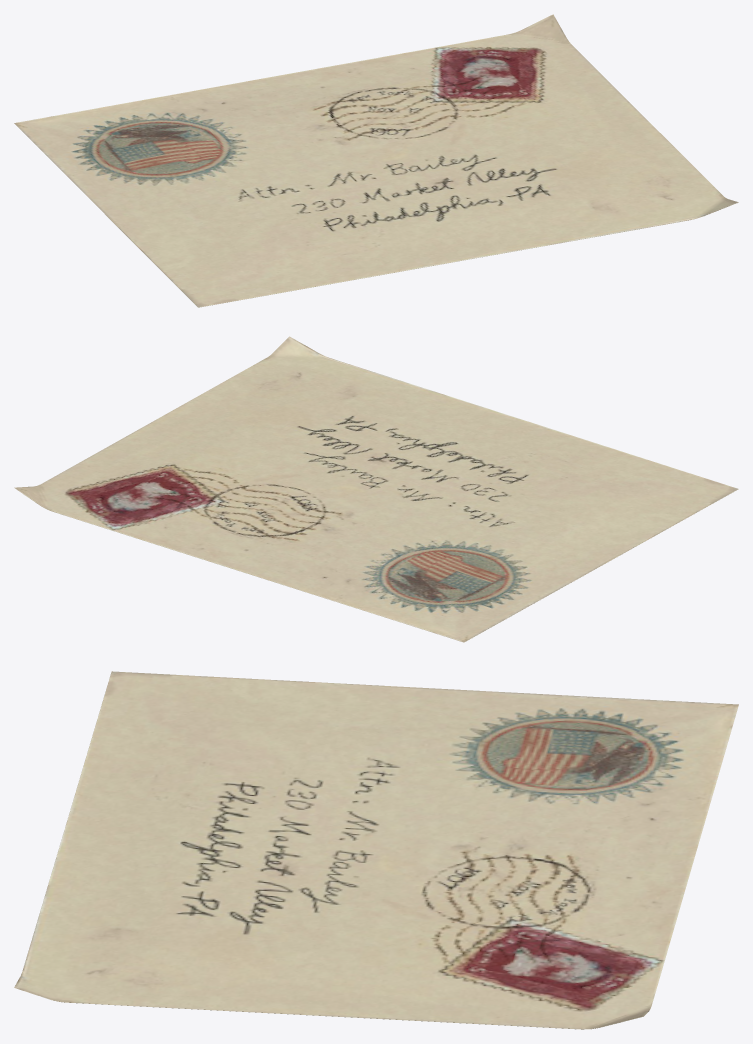
File: Envelope F.fbx
3 renders of one model, top to bottom at view 1: azimuth 30°, elevation 25°; view 2: azimuth 150°, elevation 25°; view 3: azimuth 270°, elevation 25°, orthographic. The views are drawn at different scales.
Parts seen in each view (by area): view 1: Envelope F; view 2: Envelope F; view 3: Envelope F.
Part boxes in pixels (<box>): Envelope F: <box>14,14,738,307</box>; Envelope F: <box>14,336,738,642</box>; Envelope F: <box>14,671,738,1029</box>.
Size of the model in its own units: 16.05 by 0.4003 by 13.62.
Materials: 1 (1 with a texture image).
